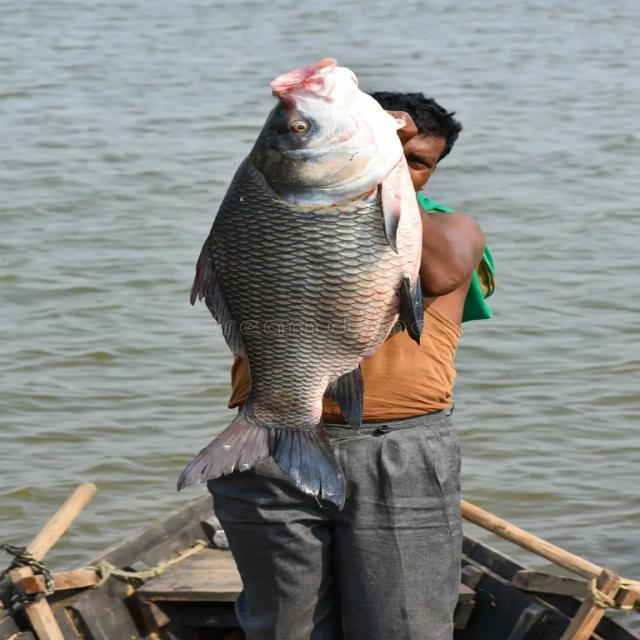Catla: (172, 58, 428, 509)
